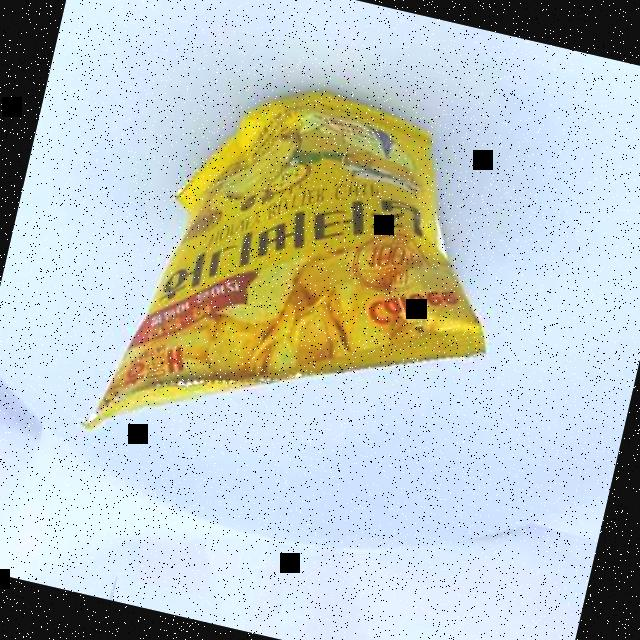snack_bag: (70, 42, 555, 529)
